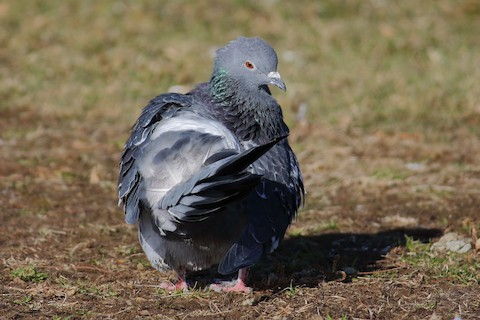pigeon: (116, 29, 307, 300)
